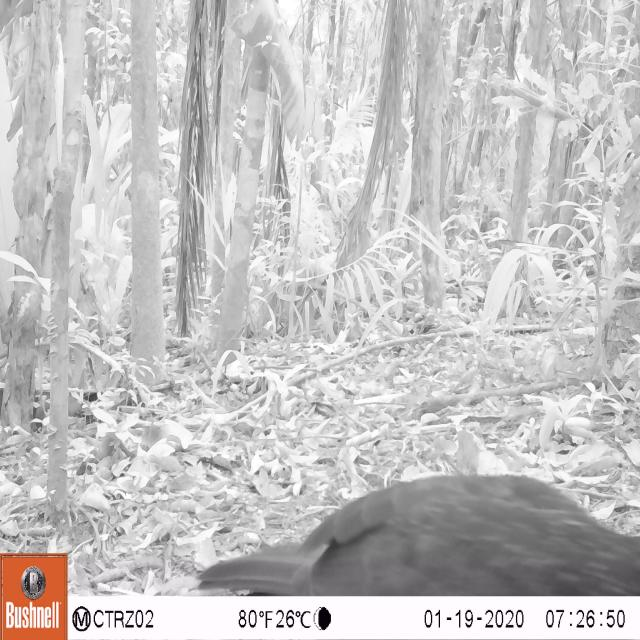Spixs Guan: (188, 470, 640, 594)
